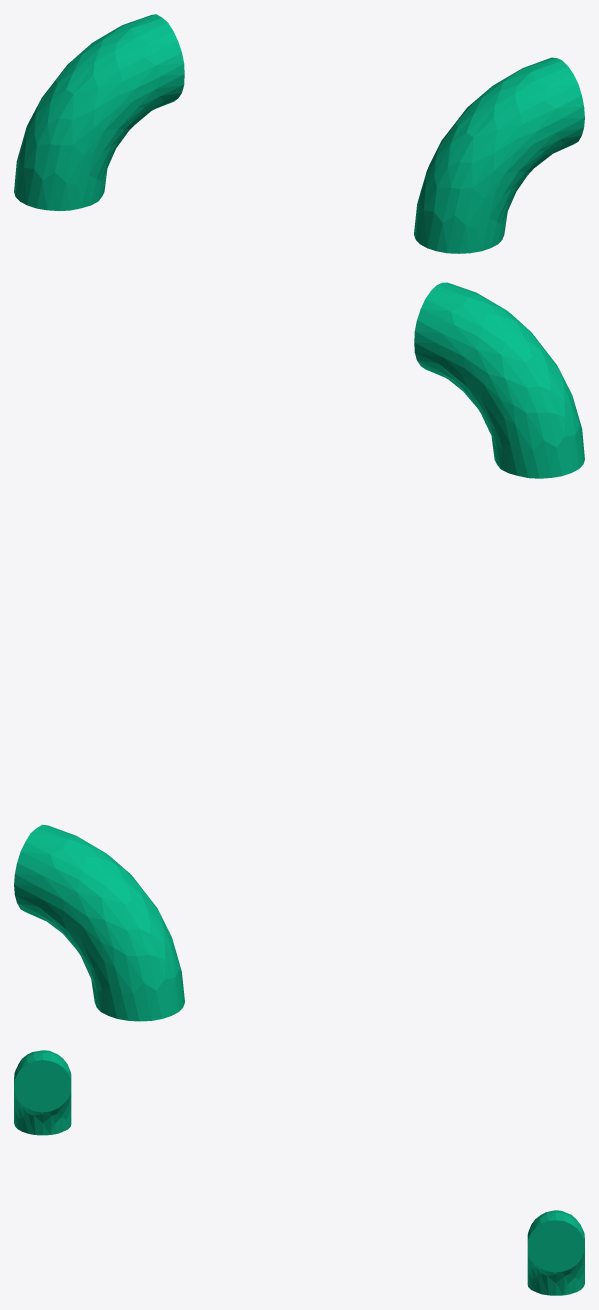
3 renders of one model, top to bottom at view 1: azimuth 30°, elevation 25°; view 2: azimuth 150°, elevation 25°; view 3: azimuth 270°, elevation 25°, orthographic. The views are drawn at different scales.
Size of the model in its own units: 0.2088 by 0.559 by 1.13.
